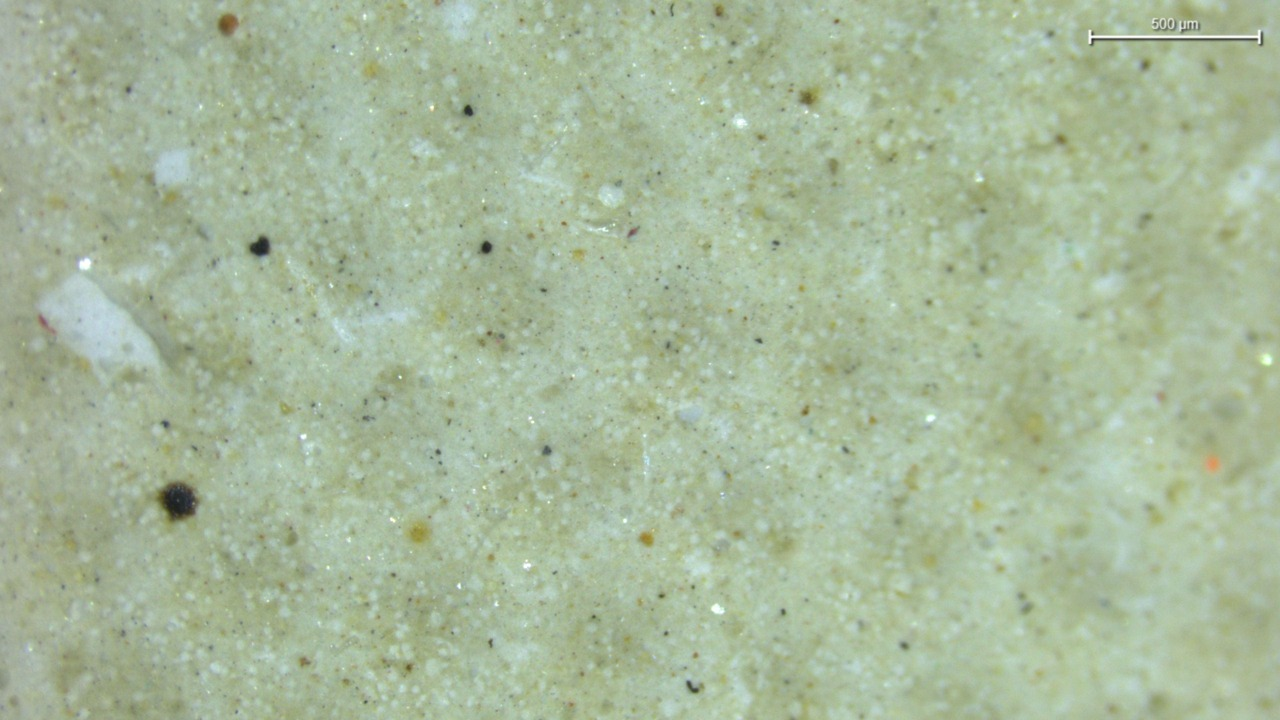microplastic_fragment: (678, 406, 702, 423)
